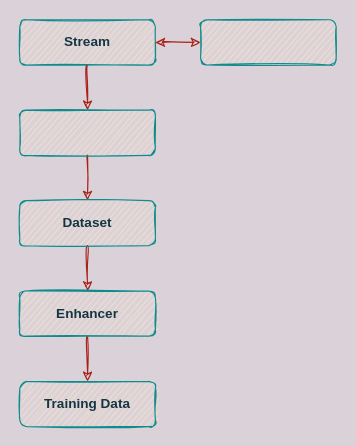
This 356x446 diagram has some shape labels left out. The shapes that lost their labels are listed below. From the top down, each one's box as (x1, y1, x2, y2) in pixels, then its label:
(199, 19, 336, 65): Side Effect
(19, 109, 155, 155): Transformer
